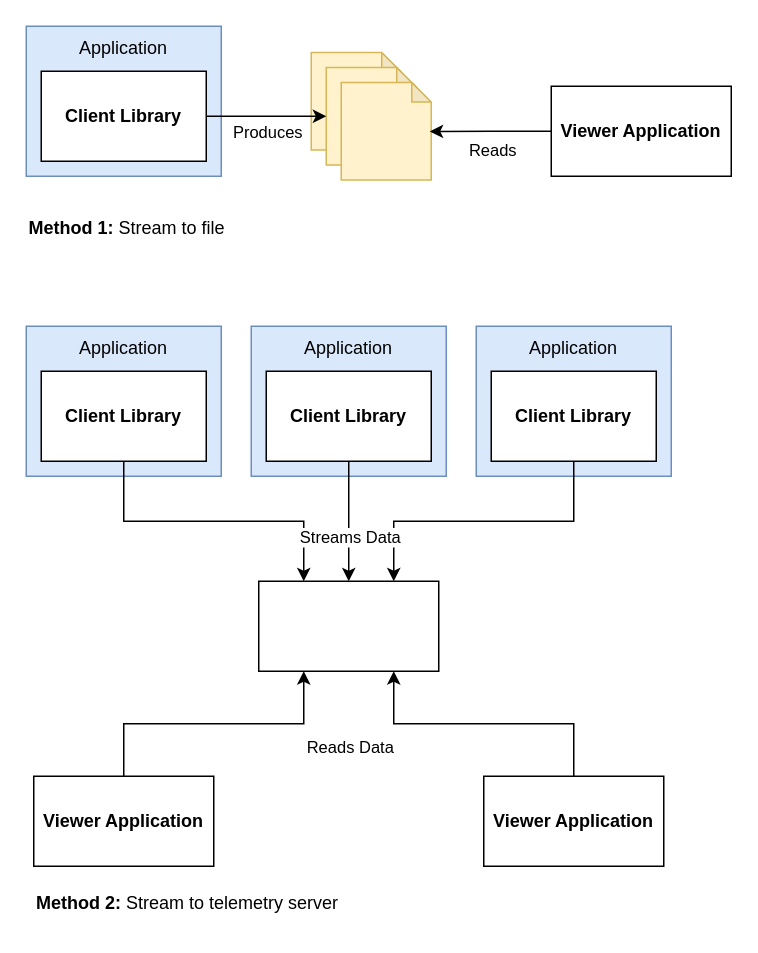
The diagram is 758 pixels wide and 953 high, and some of its shapes have lost their labels. The shapes that lost their labels are listed below. From the top down, each one's centre as x and y in pixels, then its label:
At point (385, 130): "Telemetry Data Files".
At point (348, 625): "Telemetry Server".
